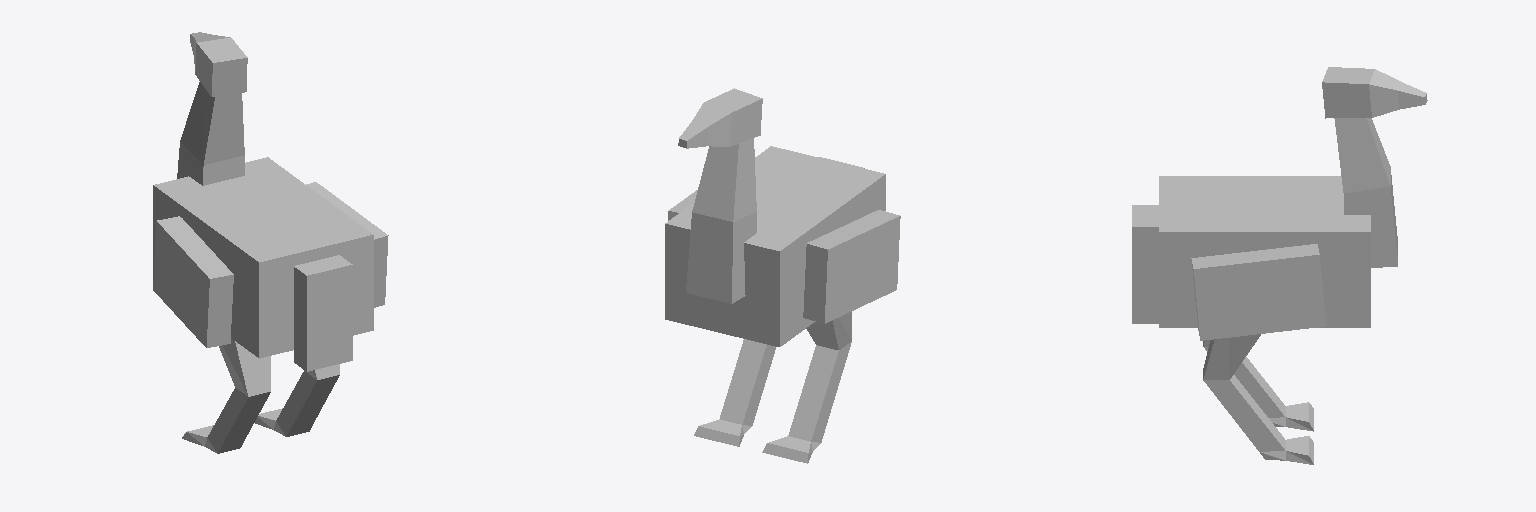
Rendered from Ostrich_000044.obj.
3 renders of one model, left to right at view 1: azimuth 30°, elevation 25°; view 2: azimuth 150°, elevation 25°; view 3: azimuth 270°, elevation 25°, orthographic.
Visible parts, largest first — view 1: Cube_Cube.001; view 2: Cube_Cube.001; view 3: Cube_Cube.001.
Boxes of the visible parts, x1=… form: Cube_Cube.001: x1=153, y1=32, x2=388, y2=453; Cube_Cube.001: x1=665, y1=88, x2=900, y2=463; Cube_Cube.001: x1=1132, y1=67, x2=1427, y2=464.
Bounding box in the file's own units: 0.7789 × 1.51 × 1.11.